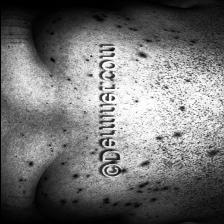Toxin: (25, 133, 91, 207), (100, 179, 176, 210), (42, 42, 90, 79), (120, 20, 160, 61), (90, 8, 112, 26), (202, 144, 220, 160), (150, 132, 182, 141), (140, 160, 152, 168)
